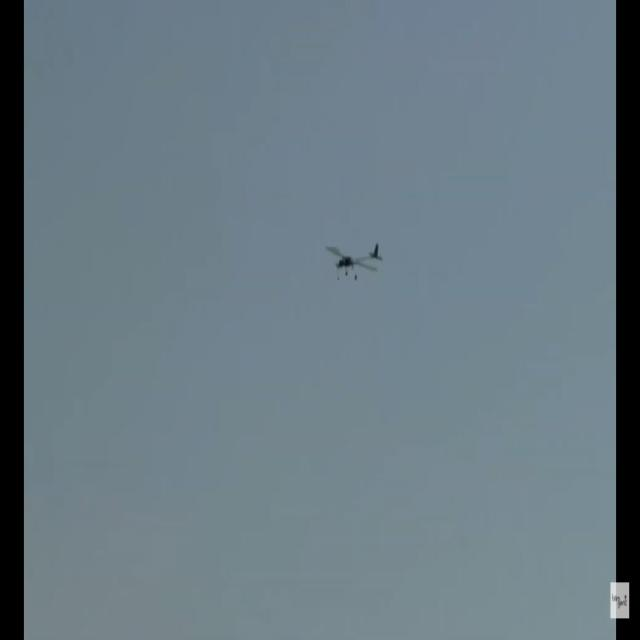iha: (322, 242, 382, 282)
